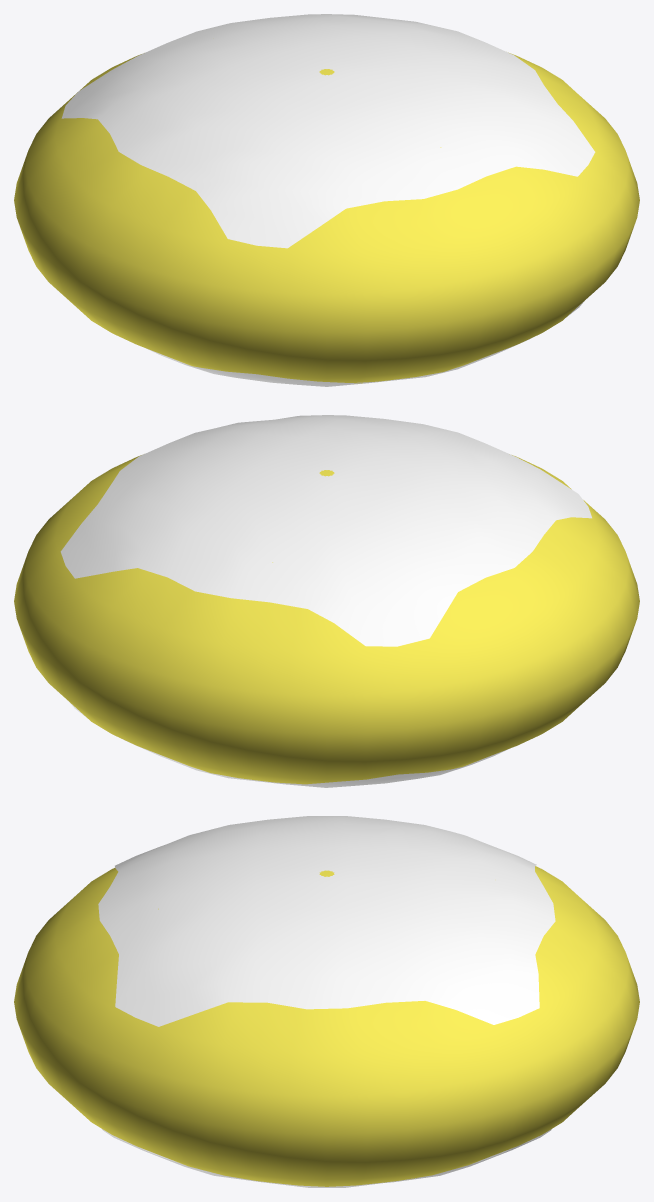
File: yy巧克力_黃色.glb
The picture shows the model from 3 angles, top to bottom: view 1: azimuth 30°, elevation 25°; view 2: azimuth 150°, elevation 25°; view 3: azimuth 270°, elevation 25°; orthographic projection.
Visible parts, largest first — view 1: Cube, y, y.001; view 2: Cube, y, y.001; view 3: Cube, y, y.001.
Boxes of the visible parts, left/top/right/bottom form: Cube: left=14, top=52, right=639, bottom=383; y: left=61, top=14, right=595, bottom=248; y.001: left=146, top=301, right=584, bottom=386; Cube: left=14, top=455, right=639, bottom=784; y: left=60, top=415, right=591, bottom=646; y.001: left=68, top=701, right=507, bottom=787; Cube: left=14, top=866, right=639, bottom=1186; y: left=98, top=816, right=555, bottom=1026; y.001: left=102, top=1129, right=551, bottom=1187.
Size of the model in its own units: 3.39 by 1.54 by 3.39.
Materials: 2 (1 with a texture image).
